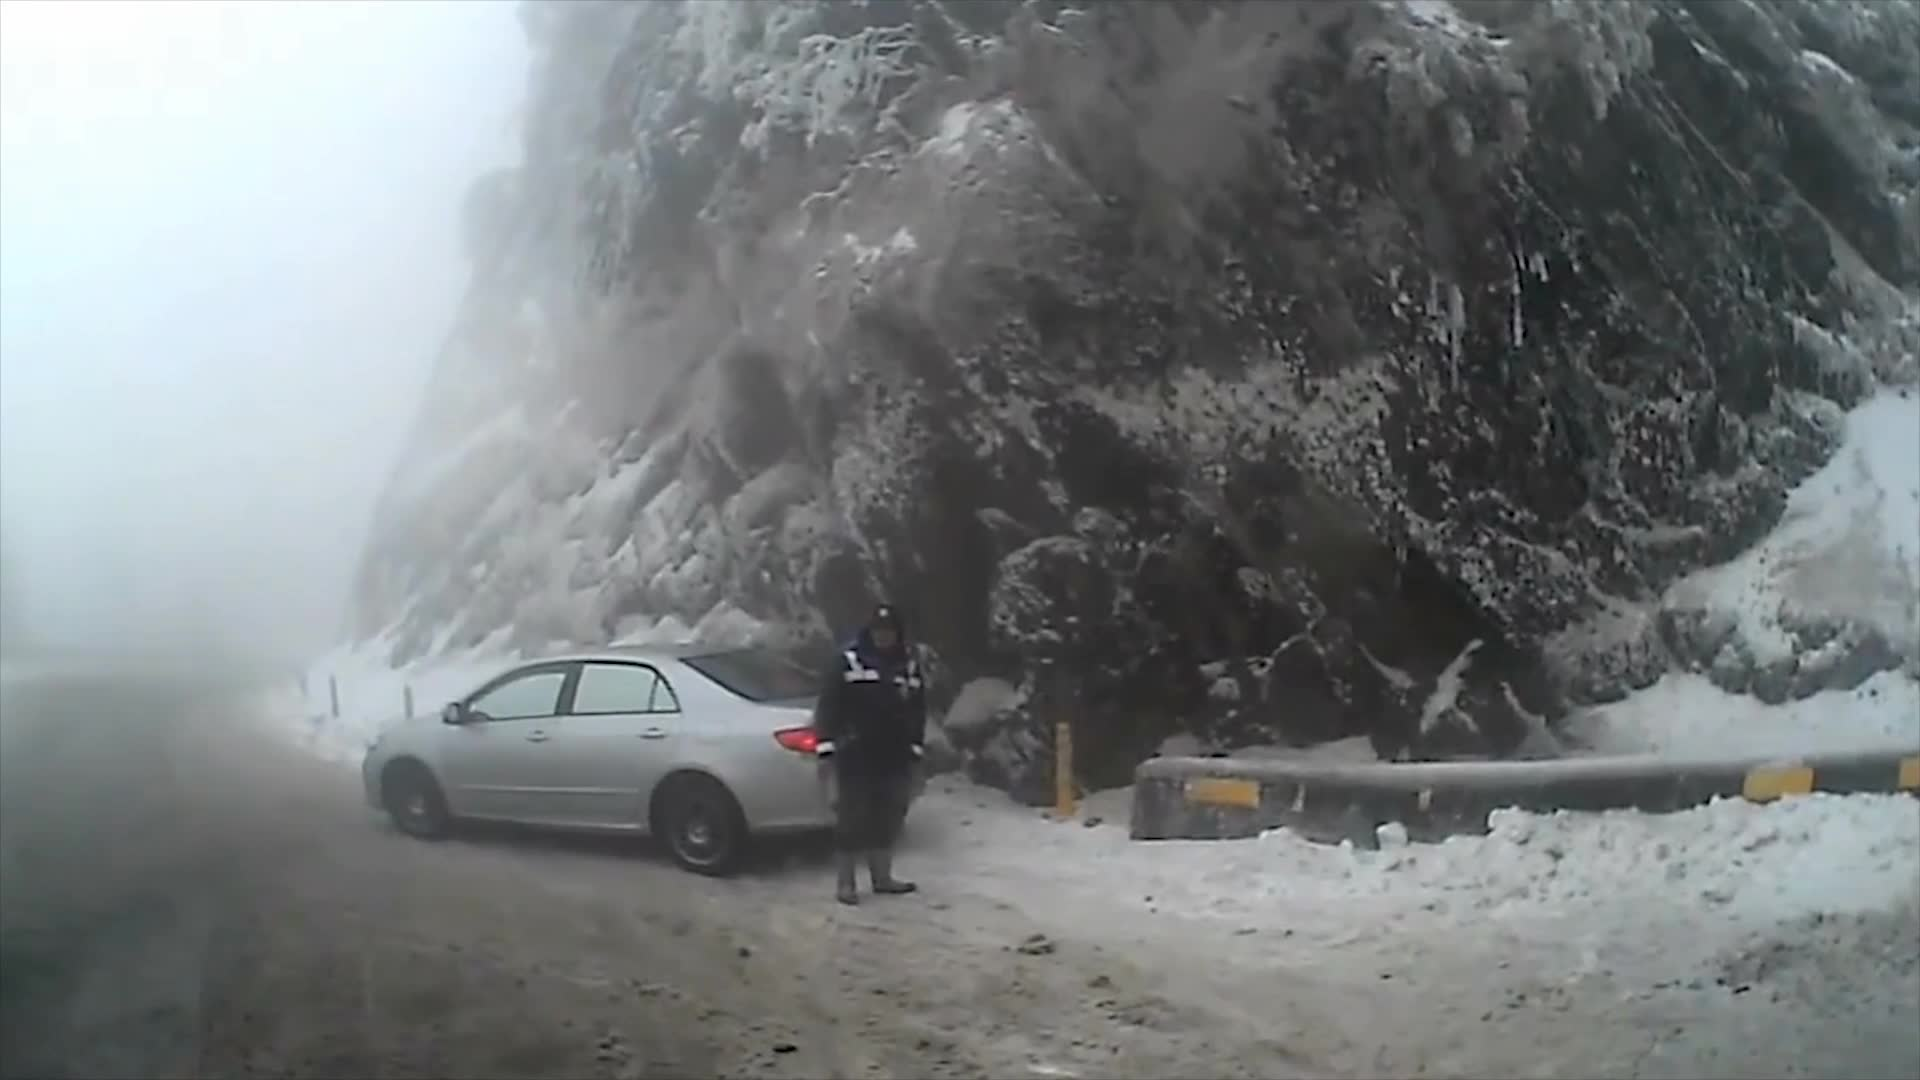pedestrian: (816, 599, 928, 907)
vehicle: (361, 640, 926, 880)
